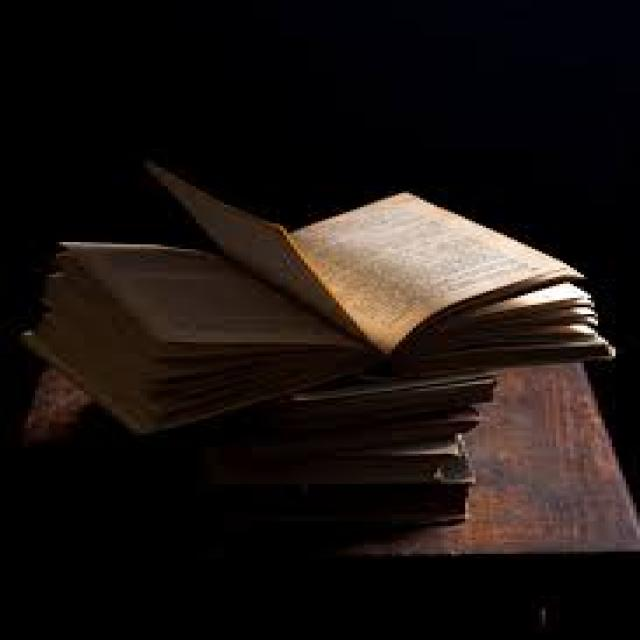book: (24, 140, 640, 402)
